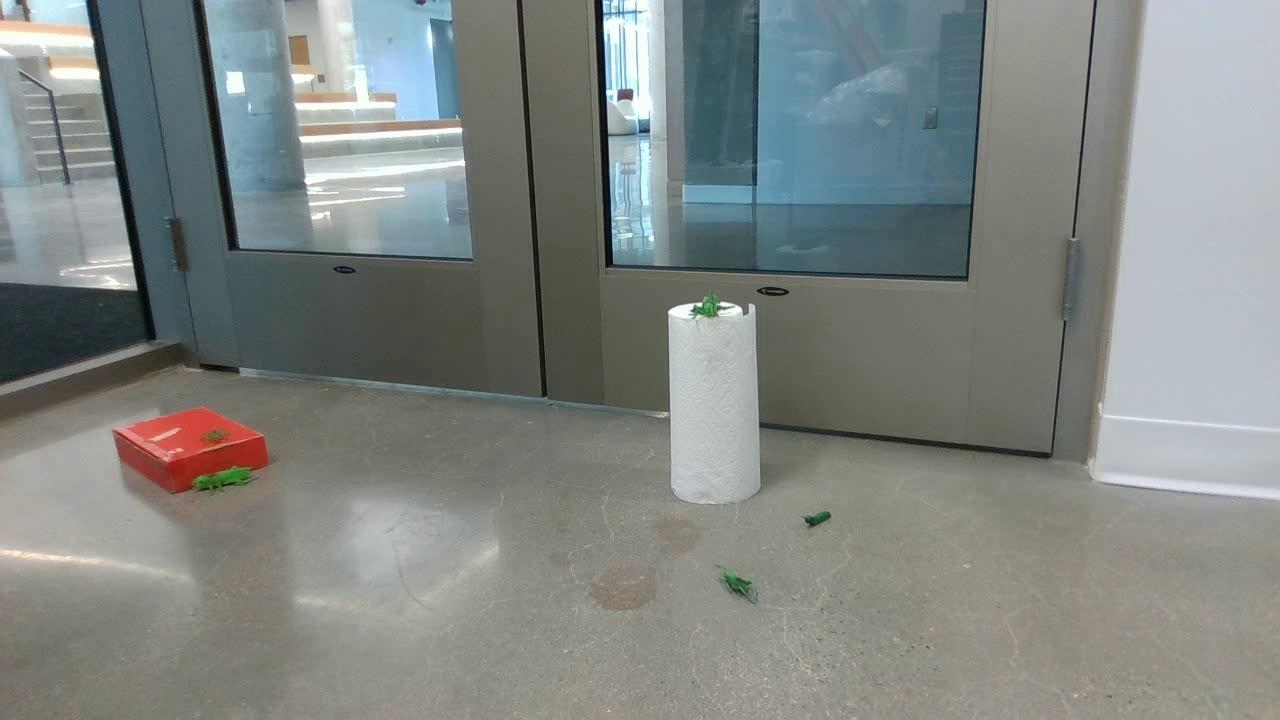grasshopper: (194, 467, 261, 494), (693, 293, 726, 320)
